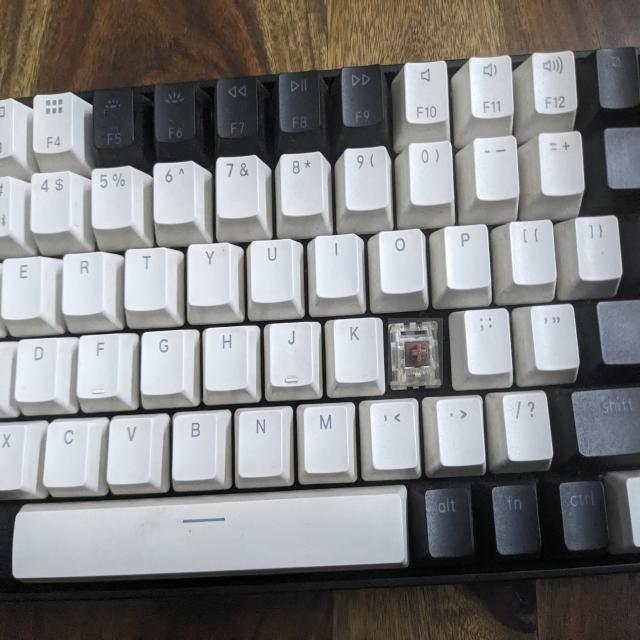C: (388, 318, 443, 385)
